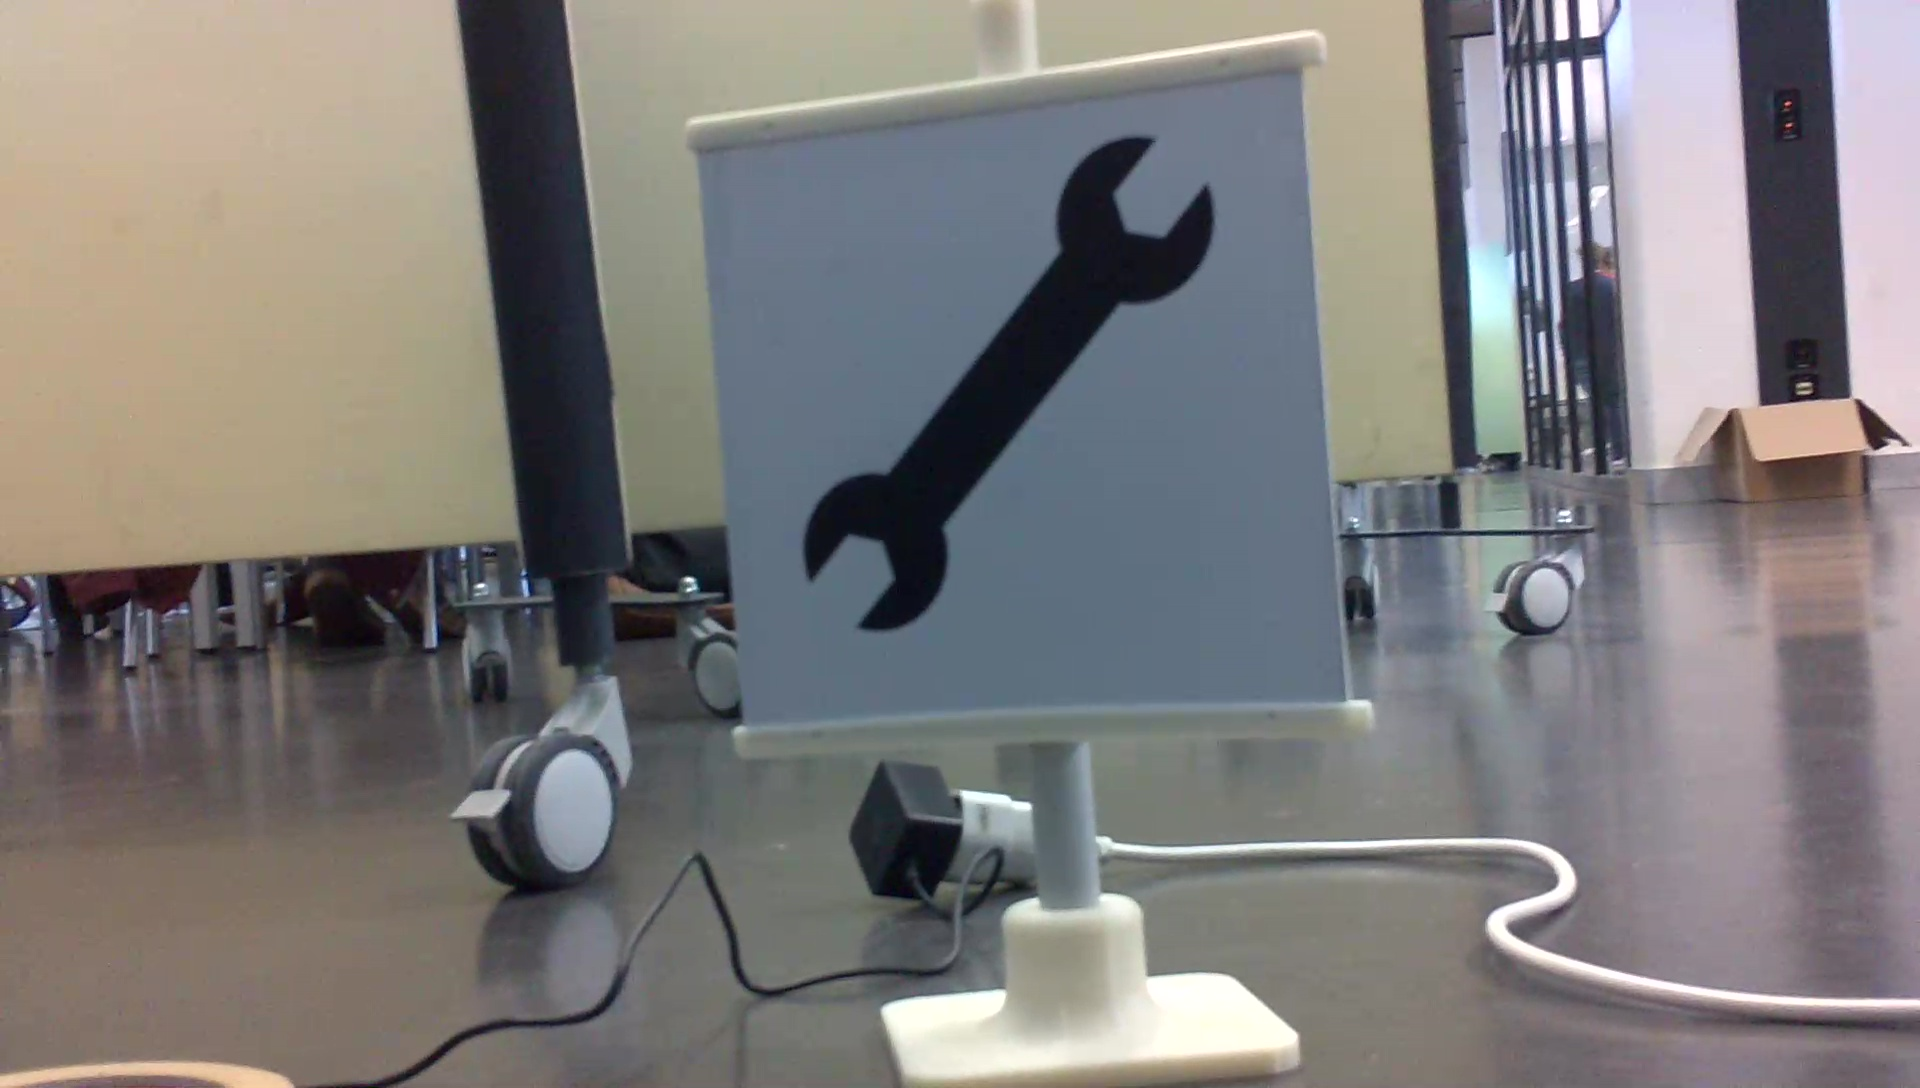wrench: (781, 125, 1222, 642)
